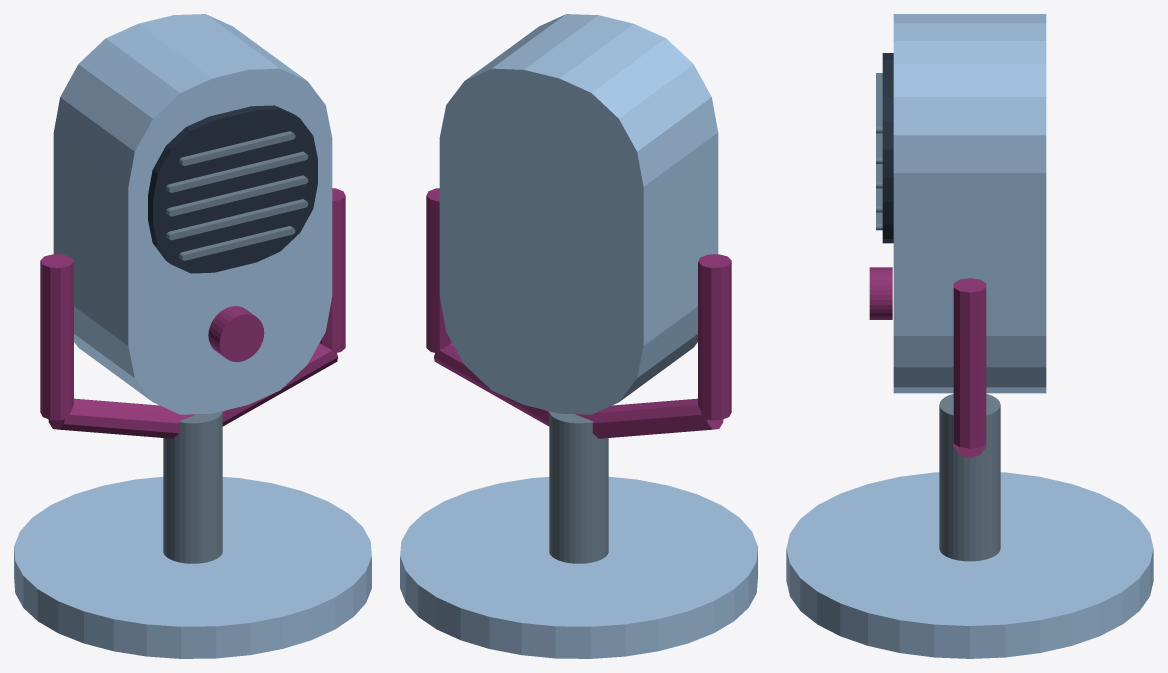
File: mic.glb
The picture shows the model from 3 angles, left to right: view 1: azimuth 30°, elevation 25°; view 2: azimuth 150°, elevation 25°; view 3: azimuth 270°, elevation 25°; orthographic projection. The views are drawn at different scales.
Parts seen in each view (by area): view 1: capsule, base, grille, stand, yoke0, yoke1, yoke3, mute key, mesh bar 3, mesh bar 1, mesh bar 2, yoke2 (+2 smaller); view 2: capsule, base, stand, yoke0, yoke1, yoke3, yoke2; view 3: capsule, base, stand, yoke3, grille, mute key.
Boxes of the visible parts, left/top/right/bottom form: capsule: left=53, top=14, right=332, bottom=414; base: left=14, top=476, right=371, bottom=658; grille: left=148, top=105, right=317, bottom=273; stand: left=163, top=411, right=222, bottom=563; yoke0: left=40, top=254, right=73, bottom=420; yoke1: left=48, top=398, right=195, bottom=438; yoke3: left=320, top=188, right=345, bottom=352; mute key: left=208, top=306, right=264, bottom=362; mesh bar 3: left=166, top=151, right=308, bottom=192; mesh bar 1: left=166, top=199, right=308, bottom=240; mesh bar 2: left=166, top=175, right=308, bottom=216; yoke2: left=222, top=343, right=337, bottom=426; capsule: left=439, top=14, right=718, bottom=414; base: left=400, top=476, right=757, bottom=658; stand: left=549, top=411, right=608, bottom=563; yoke0: left=698, top=254, right=731, bottom=420; yoke1: left=576, top=398, right=723, bottom=438; yoke3: left=426, top=188, right=451, bottom=352; yoke2: left=434, top=343, right=549, bottom=426; capsule: left=893, top=14, right=1046, bottom=393; base: left=786, top=472, right=1153, bottom=658; stand: left=939, top=394, right=1000, bottom=561; yoke3: left=953, top=278, right=986, bottom=448; grille: left=882, top=53, right=893, bottom=243; mute key: left=869, top=267, right=892, bottom=319.
Size of the model in its own units: 0.96 by 1.59 by 0.96.
